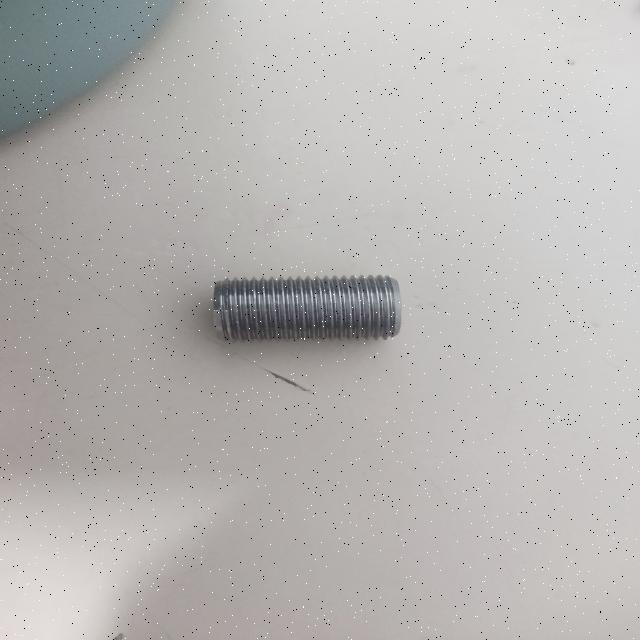Normal: (212, 272, 406, 345)
